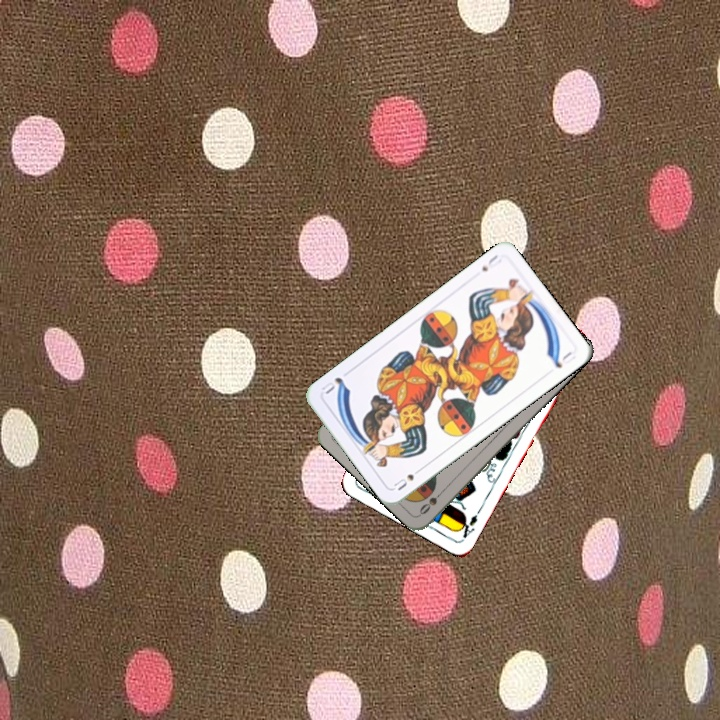EA: (454, 510, 480, 542)
SO: (415, 485, 448, 517)
SU: (390, 463, 426, 493), (477, 250, 504, 274)
